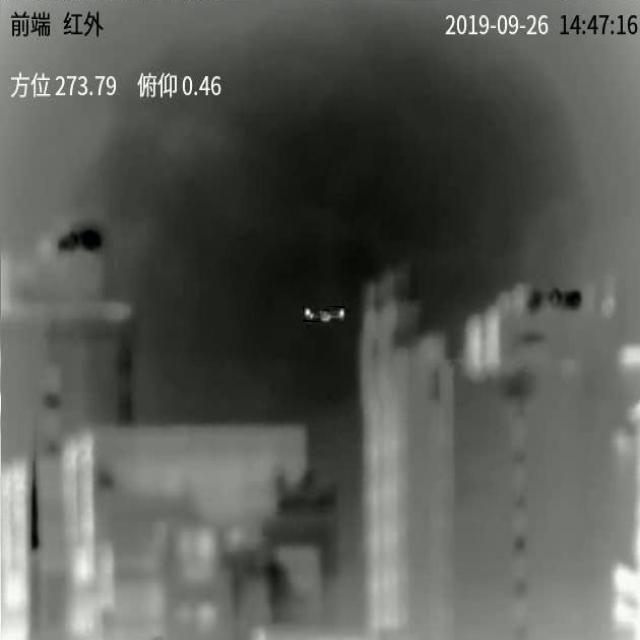drone: (304, 309, 345, 322)
